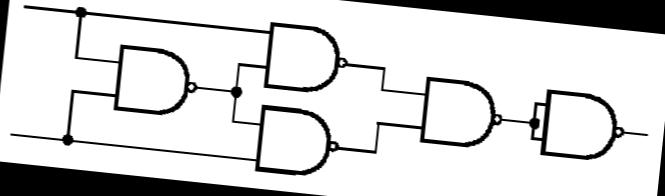nand: (240, 98, 349, 186), (410, 68, 512, 158), (254, 14, 358, 101), (105, 38, 207, 125), (533, 82, 631, 170)
